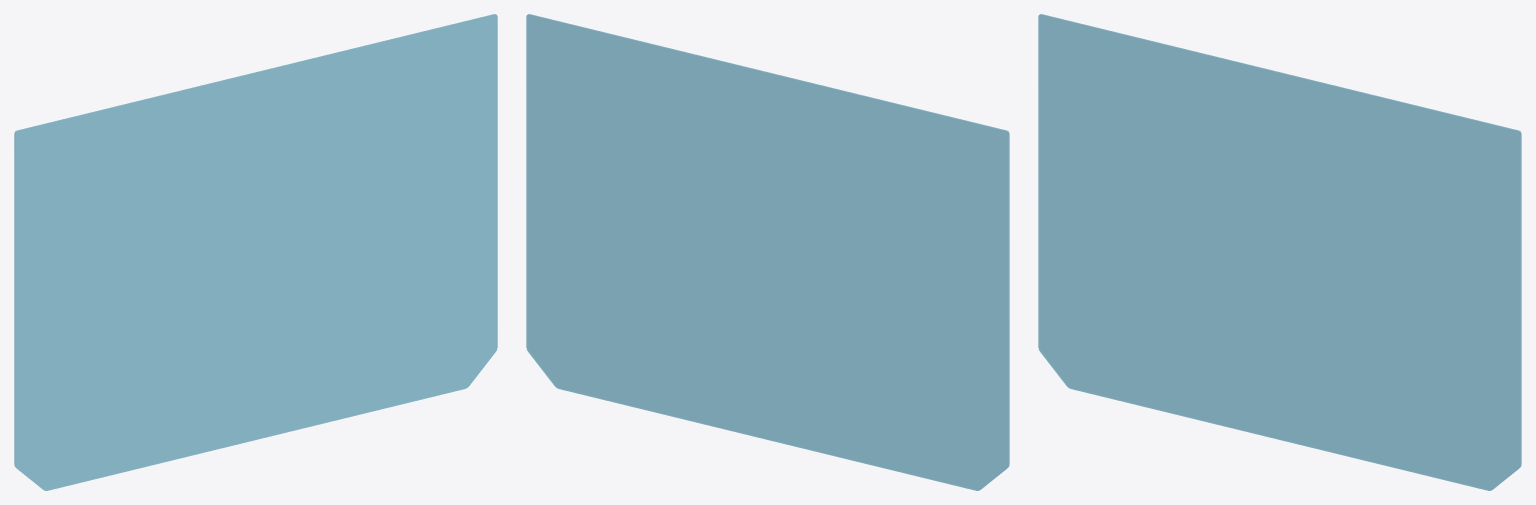
The model's file is Display Glass.fbx.
3 views of the same model, side by side, from view 1: azimuth 30°, elevation 25°; view 2: azimuth 150°, elevation 25°; view 3: azimuth 330°, elevation 25° (orthographic).
Visible parts, largest first — view 1: Display Glass; view 2: Display Glass; view 3: Display Glass.
Part boxes in pixels (x1,y1,x2,y2): Display Glass: (14, 14, 497, 490); Display Glass: (526, 14, 1009, 490); Display Glass: (1038, 14, 1521, 490).
Size of the model in its own units: 161 by 117 by 0.5.
